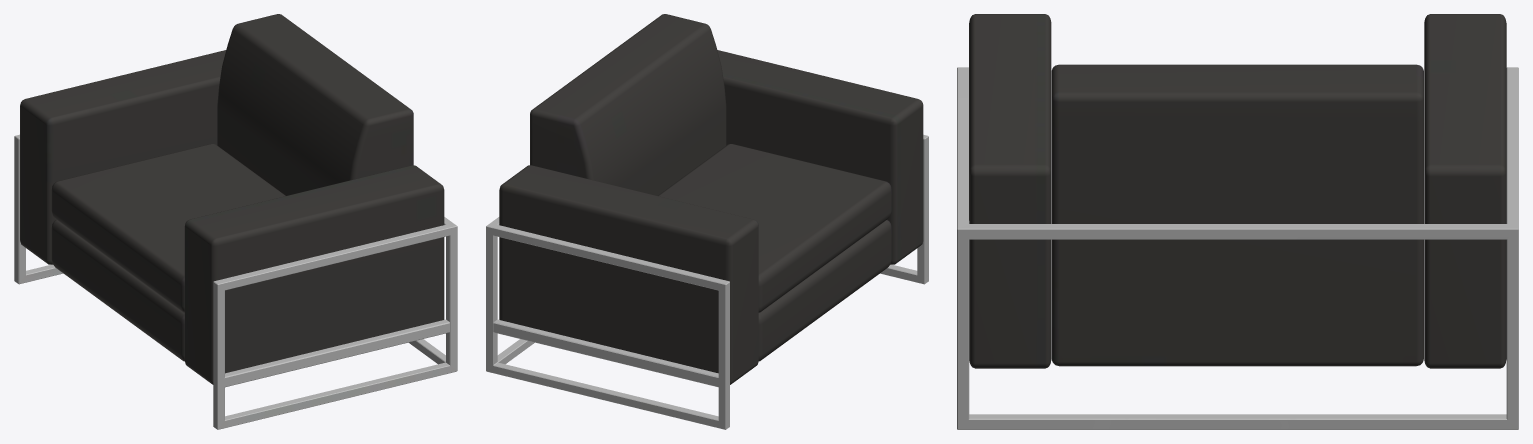
File: CR_Armchair.glb
3 renders of one model, left to right at view 1: azimuth 30°, elevation 25°; view 2: azimuth 150°, elevation 25°; view 3: azimuth 270°, elevation 25°, orthographic. The views are drawn at different scales.
Visible parts, largest first — view 1: Armchair; view 2: Armchair; view 3: Armchair.
Boxes of the visible parts, box(x1,y1,x2,y2) form: Armchair: box(14, 14, 457, 429); Armchair: box(486, 14, 928, 429); Armchair: box(957, 14, 1518, 429).
Size of the model in its own units: 0.9328 by 0.884 by 1.36.
1 material, 1 textured.
